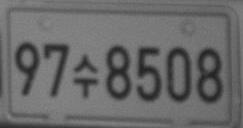0: (166, 47, 191, 102)
5: (136, 47, 161, 101)
7: (43, 43, 69, 96)
8: (196, 47, 222, 102), (106, 45, 130, 100)
9: (14, 42, 40, 95)
수: (72, 53, 98, 98)
